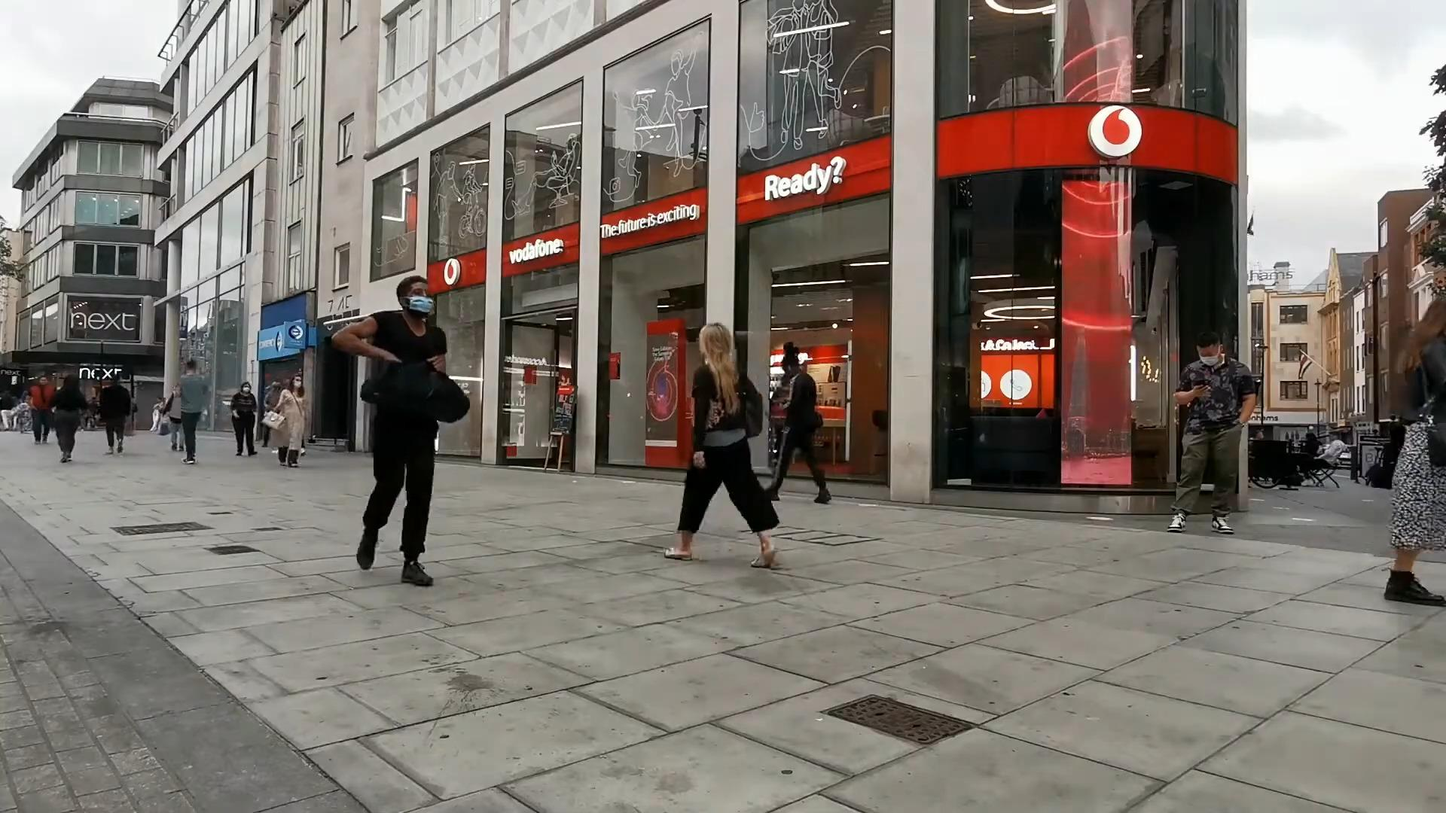no-helmet: (397, 274, 434, 319), (698, 323, 732, 362), (1194, 329, 1225, 367), (290, 373, 303, 389), (240, 381, 252, 394)
